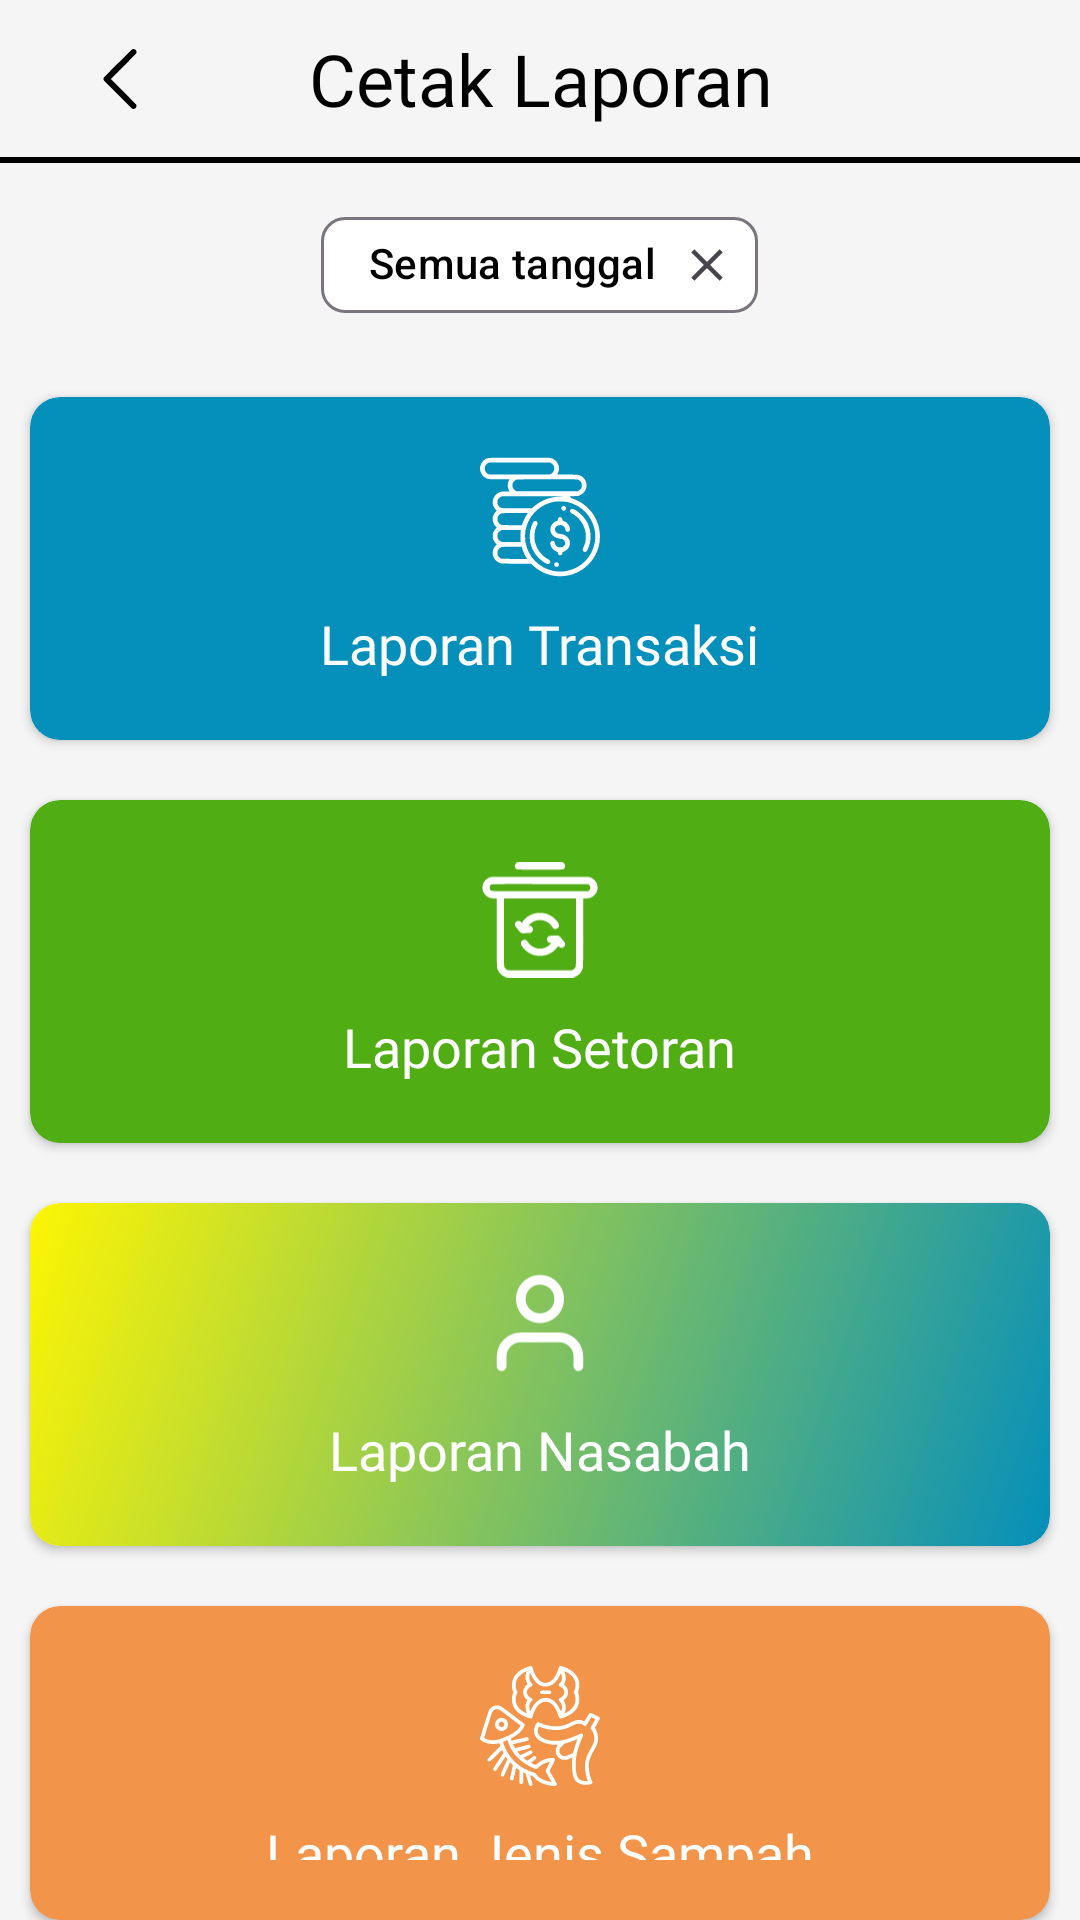

Icons on this 1080 x 1920 Android screen, each with the point to tap as (x=x, y=y):
back: (x=120, y=79)
